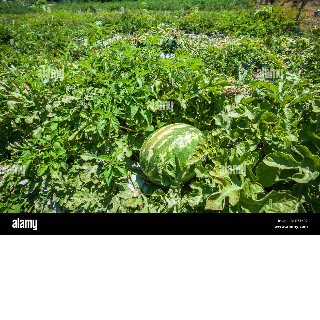dua_hau: (137, 120, 208, 190)
